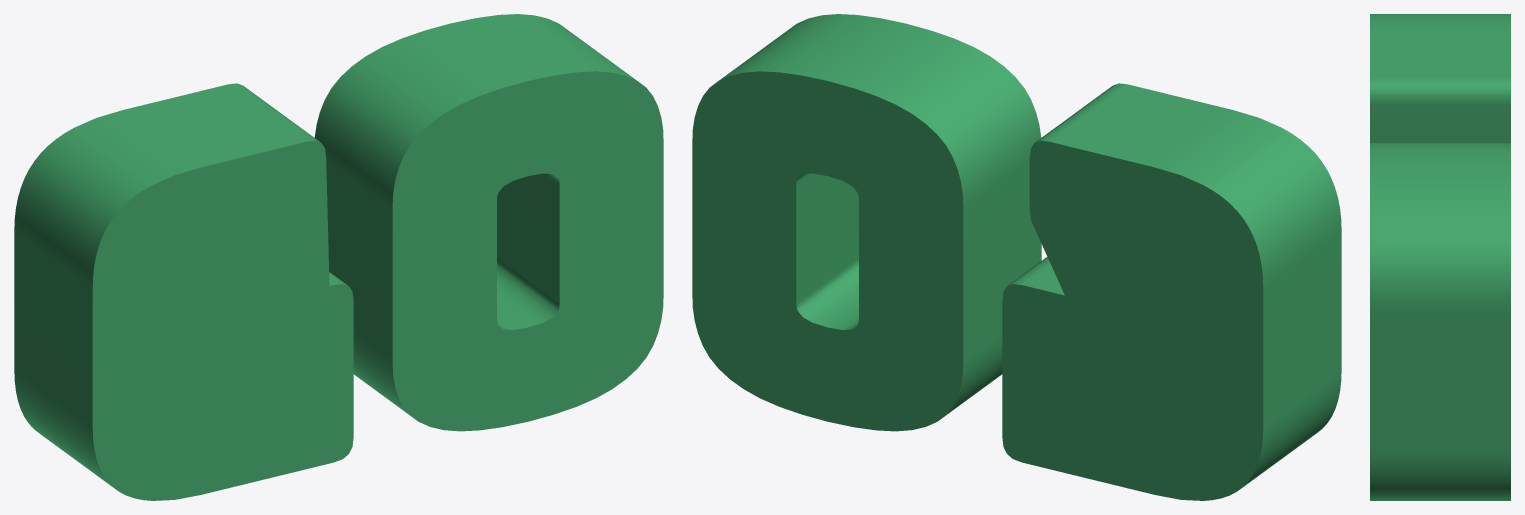
3 renders of one model, left to right at view 1: azimuth 30°, elevation 25°; view 2: azimuth 150°, elevation 25°; view 3: azimuth 270°, elevation 25°, orthographic. The views are drawn at different scales.
Visible parts, largest first — view 1: typeMesh1; view 2: typeMesh1; view 3: typeMesh1.
Part boxes in pixels (left/top/right/bottom): typeMesh1: left=14, top=14, right=663, bottom=500; typeMesh1: left=692, top=14, right=1341, bottom=500; typeMesh1: left=1370, top=14, right=1510, bottom=500.
Bounding box in the file's own units: 10.51 × 6 × 2.5.
